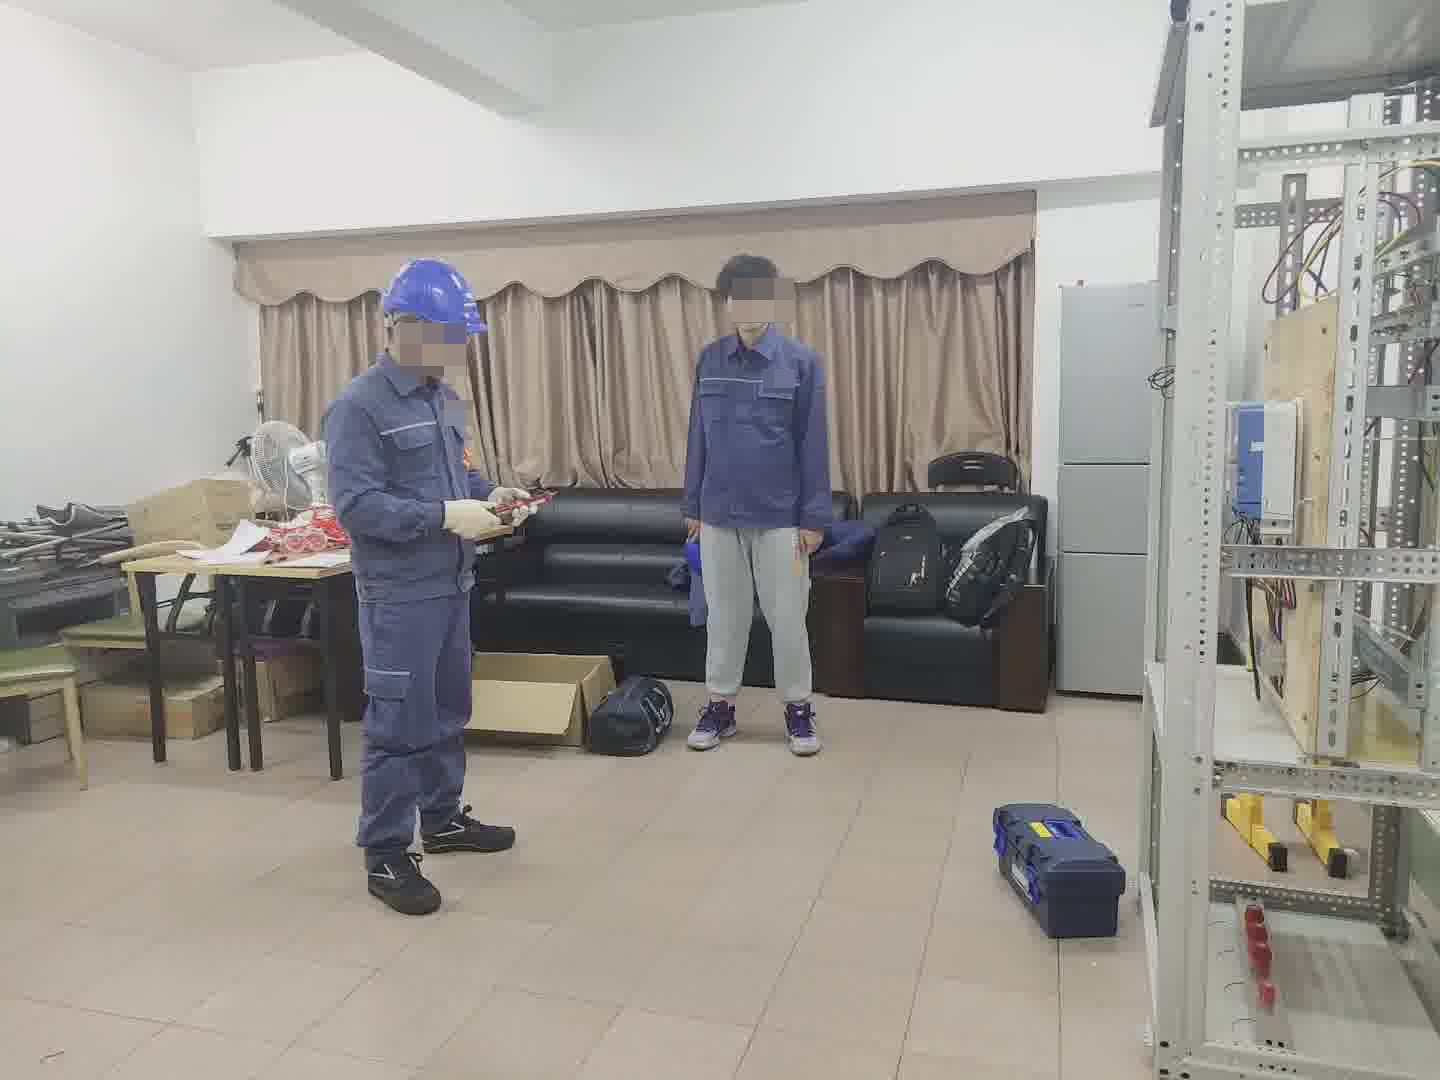downcloth: (688, 520, 818, 708)
downsuit: (353, 607, 485, 851)
halt: (379, 257, 488, 372)
hand: (797, 528, 827, 556), (685, 518, 703, 545)
inear: (386, 311, 422, 354)
noear: (765, 287, 782, 312)
person: (313, 255, 522, 911), (678, 249, 837, 758)
testrod: (496, 488, 559, 513)
unhalt: (712, 252, 787, 335)
upsuit: (318, 356, 498, 591), (685, 330, 835, 522)
wglove: (443, 497, 498, 540), (495, 483, 537, 522)
